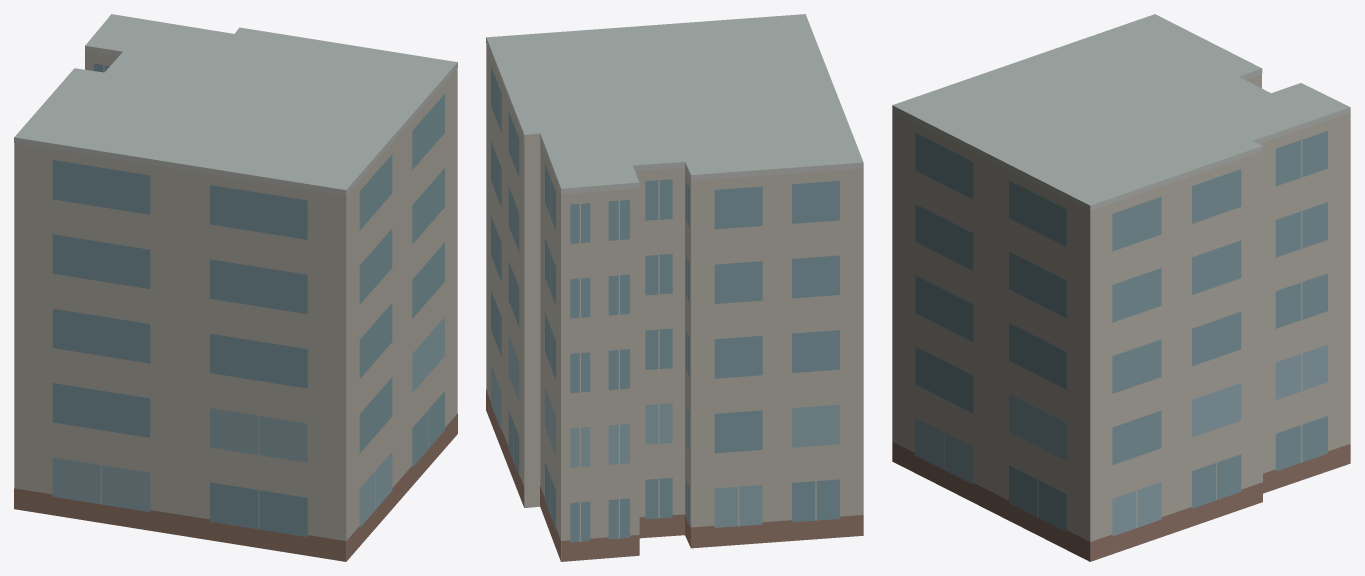
Rendered from survey-upis-32956715.glb.
3 renders of one model, left to right at view 1: azimuth 30°, elevation 25°; view 2: azimuth 150°, elevation 25°; view 3: azimuth 270°, elevation 25°, orthographic. The views are drawn at different scales.
Visible parts, largest first — view 1: survey-upis-32956715.tmp; view 2: survey-upis-32956715.tmp; view 3: survey-upis-32956715.tmp.
Boxes of the visible parts, left/top/right/bottom form: survey-upis-32956715.tmp: left=14, top=14, right=457, bottom=561; survey-upis-32956715.tmp: left=486, top=14, right=863, bottom=561; survey-upis-32956715.tmp: left=892, top=14, right=1350, bottom=561.
Size of the model in its own units: 18.29 by 15.85 by 18.49.
